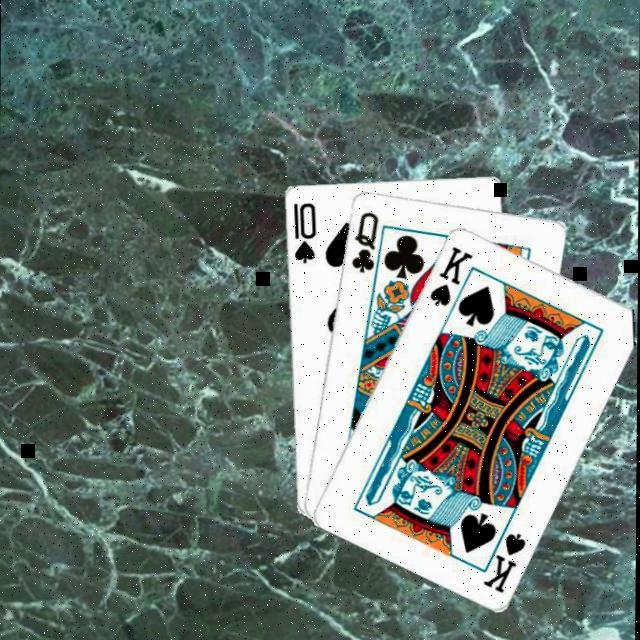10S: (290, 198, 320, 264)
KS: (480, 516, 530, 594), (428, 242, 476, 308)
QC: (349, 207, 382, 274)
